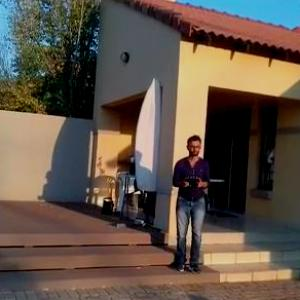follow: (166, 130, 216, 276)
